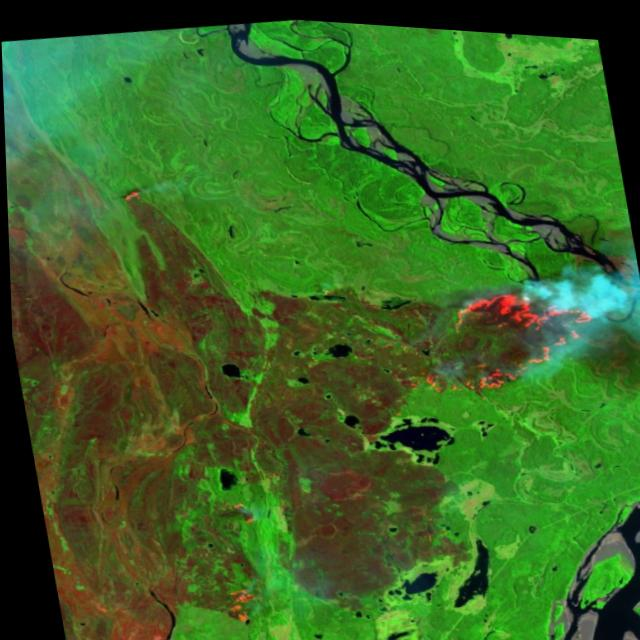fire: (389, 255, 621, 407), (205, 572, 268, 635), (216, 488, 262, 529), (109, 178, 151, 211)
